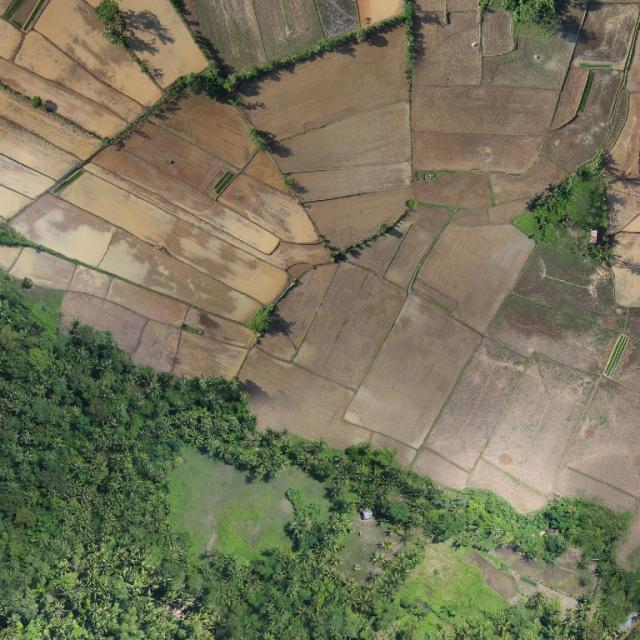greenland: (511, 153, 613, 270)
